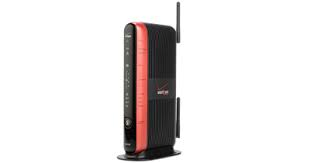Verizon Router: (107, 1, 187, 162)
